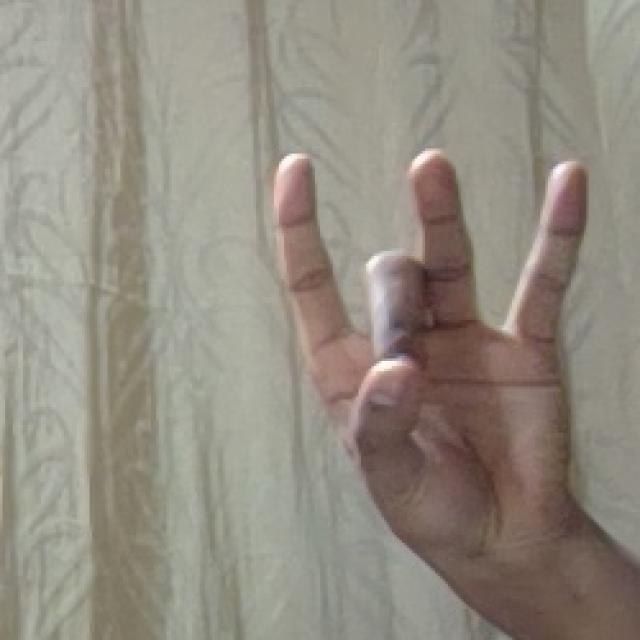Numeric-8: (280, 140, 579, 527)
